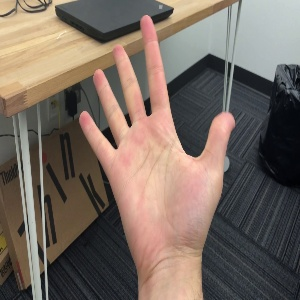hand: (79, 15, 235, 250)
